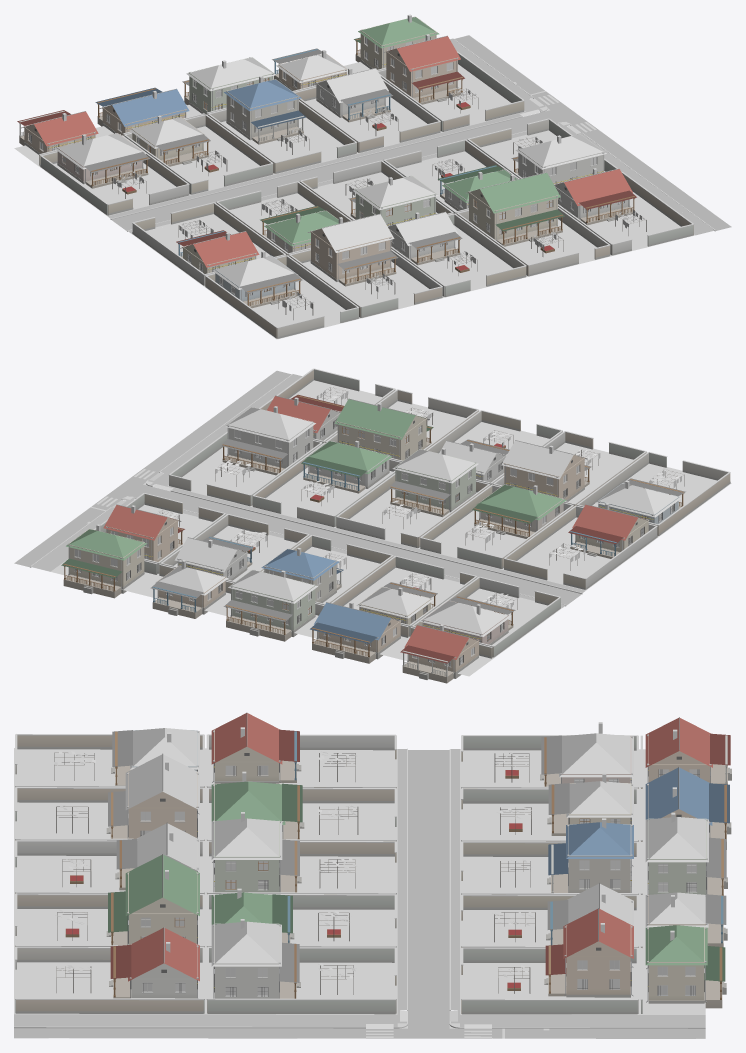
The model's file is chunk_0_5.glb.
The picture shows the model from 3 angles, top to bottom: view 1: azimuth 30°, elevation 25°; view 2: azimuth 150°, elevation 25°; view 3: azimuth 270°, elevation 25°; orthographic projection. The views are drawn at different scales.
Parts seen in each view (by area): view 1: base, detail; view 2: base, detail; view 3: base, detail.
Boxes of the visible parts, x1=… form: base: x1=14, y1=14, x2=731, y2=339; detail: x1=19, y1=17, x2=646, y2=319; base: x1=14, y1=368, x2=731, y2=683; detail: x1=63, y1=387, x2=684, y2=676; base: x1=14, y1=713, x2=731, y2=1038; detail: x1=54, y1=712, x2=727, y2=1002.
Size of what is drawn, in the model's own units: 100 by 11.61 by 104.
